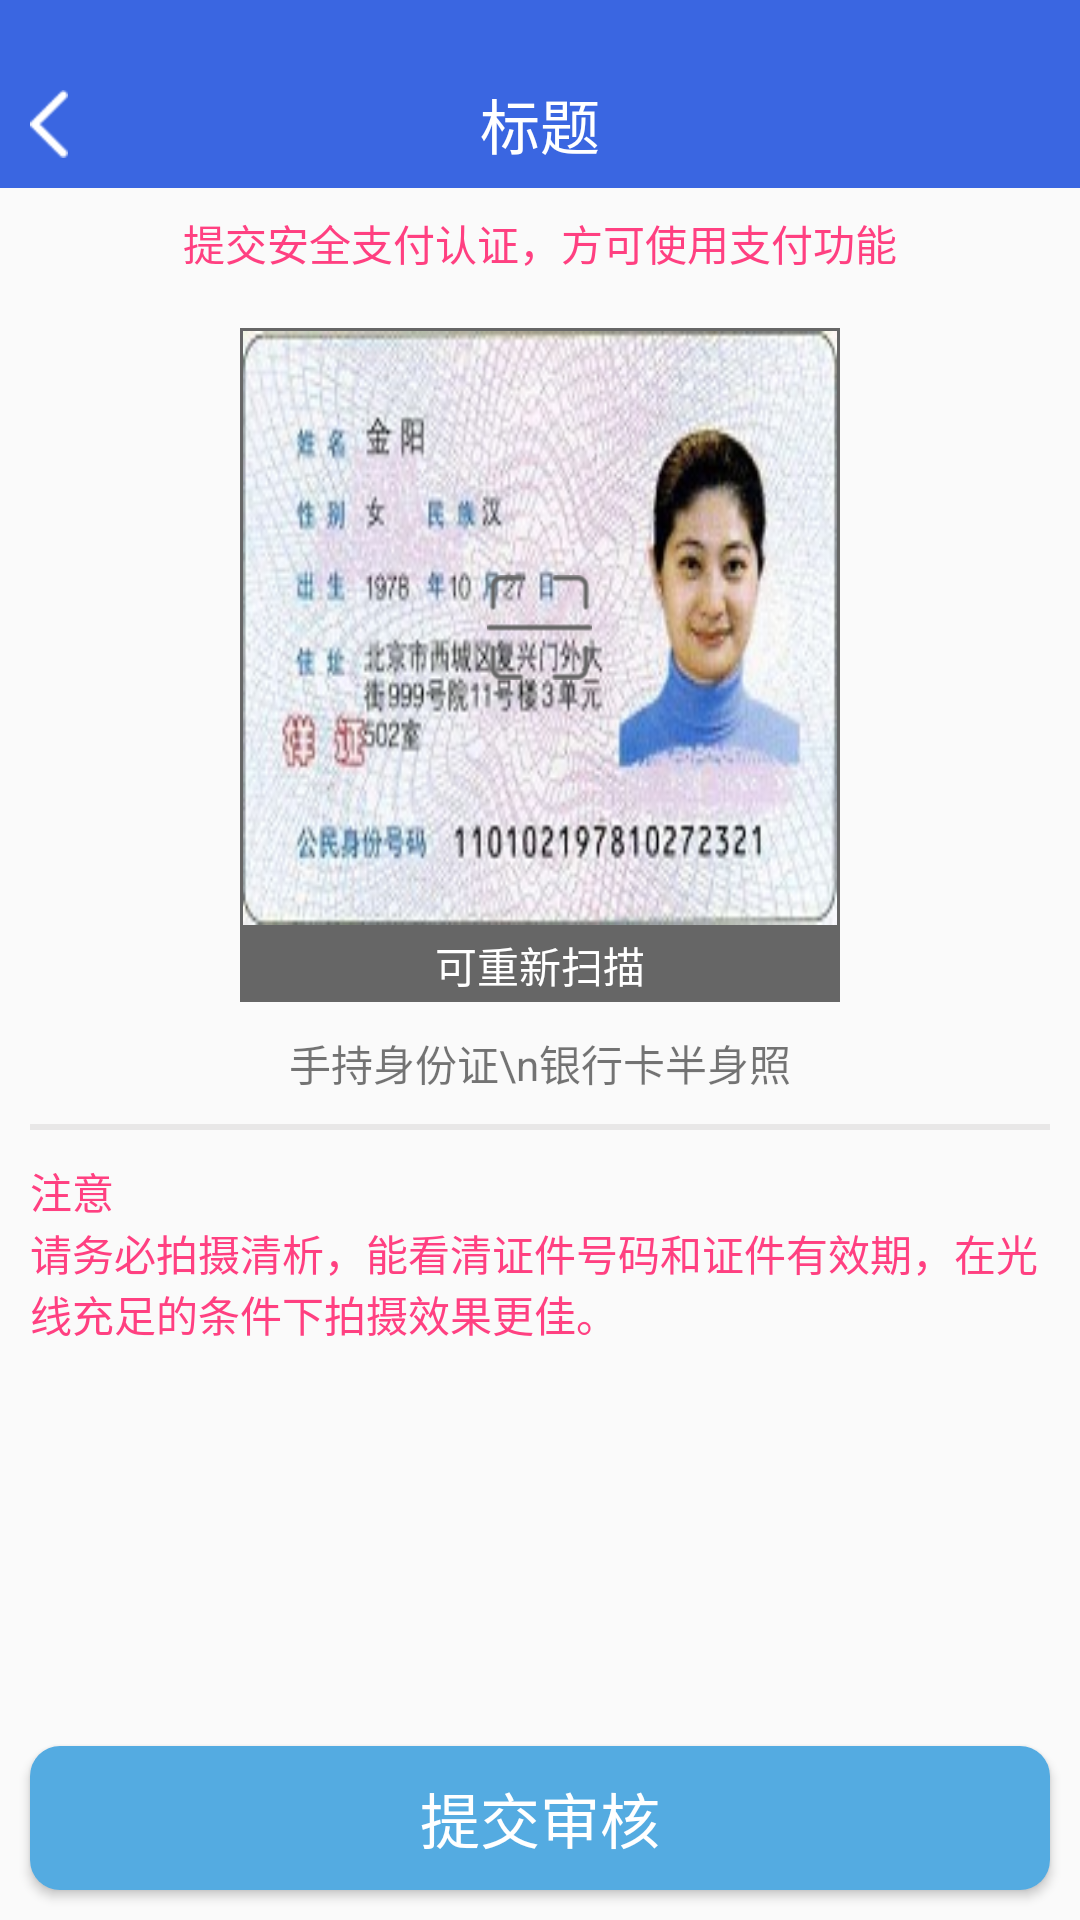

Icons on this 1080 × 1920 Android screen, each with the point to tap as point (x, y):
chevron left: point (49, 124)
